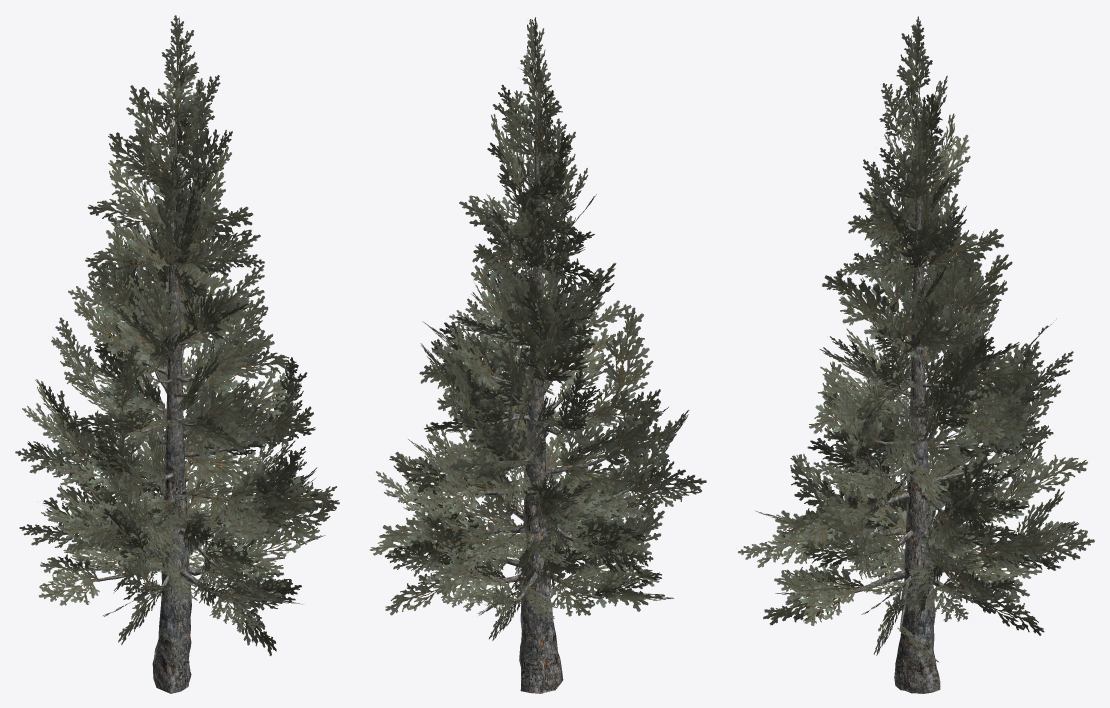
File: epicea-2.glb
The picture shows the model from 3 angles, left to right: view 1: azimuth 30°, elevation 25°; view 2: azimuth 150°, elevation 25°; view 3: azimuth 270°, elevation 25°; orthographic projection.
Parts seen in each view (by area): view 1: Spruce_LOD0; view 2: Spruce_LOD0; view 3: Spruce_LOD0.
Boxes of the visible parts, left/top/right/bottom form: Spruce_LOD0: left=15, top=15, right=339, bottom=693; Spruce_LOD0: left=370, top=17, right=706, bottom=693; Spruce_LOD0: left=738, top=16, right=1094, bottom=693.
Size of the model in its own units: 8.09 by 17.42 by 8.42.
2 materials, 2 textured.
